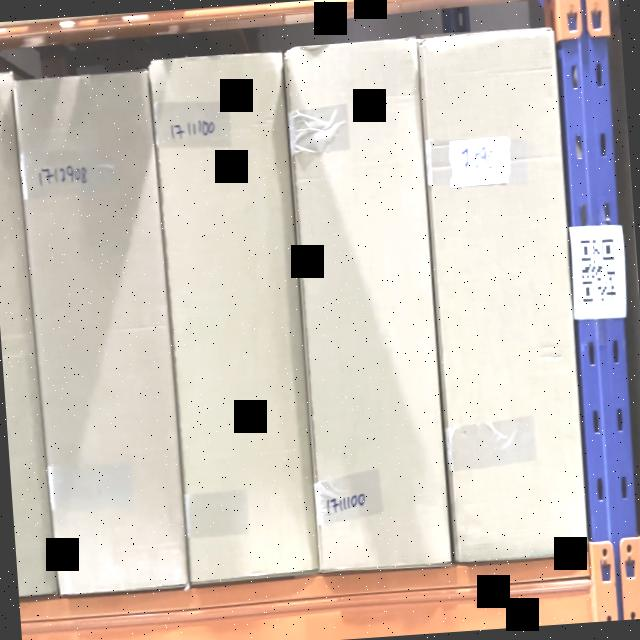box: (284, 38, 453, 570), (149, 53, 314, 580), (422, 32, 587, 558), (20, 78, 188, 592)
